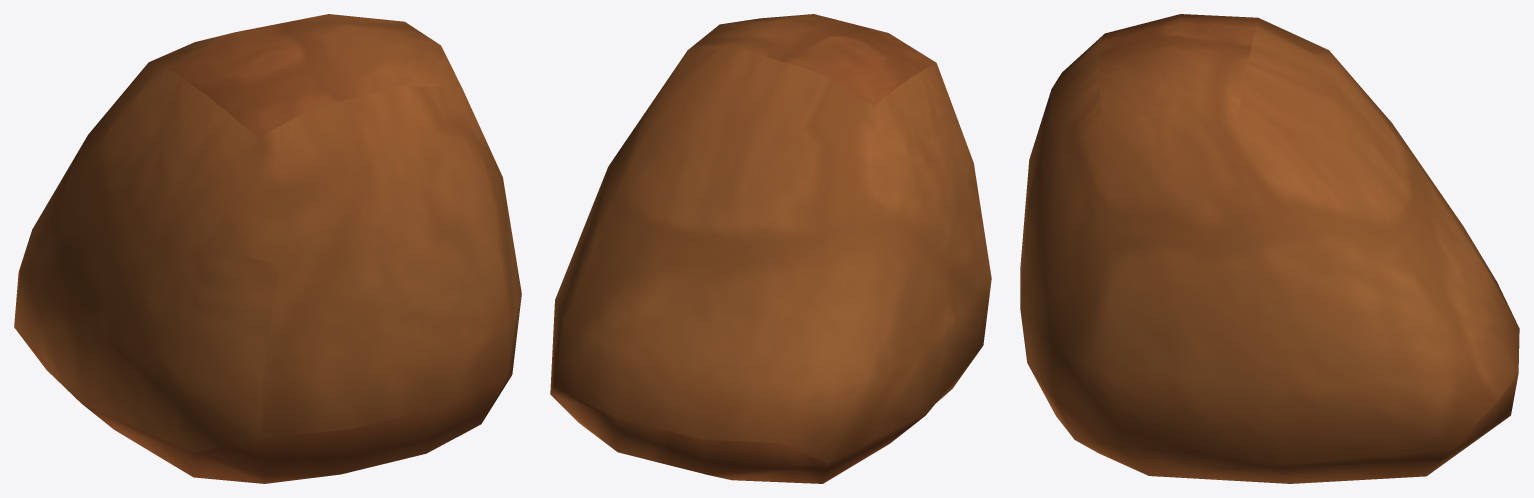
Rendered from BigRock.fbx.
The picture shows the model from 3 angles, left to right: view 1: azimuth 30°, elevation 25°; view 2: azimuth 150°, elevation 25°; view 3: azimuth 270°, elevation 25°; orthographic projection. The views are drawn at different scales.
Visible parts, largest first — view 1: Stone; view 2: Stone; view 3: Stone.
Part boxes in pixels (x1,y1,x2,y2): Stone: (14,14,521,483); Stone: (550,14,991,483); Stone: (1020,14,1519,483).
Size of the model in its own units: 228 by 231 by 273.
